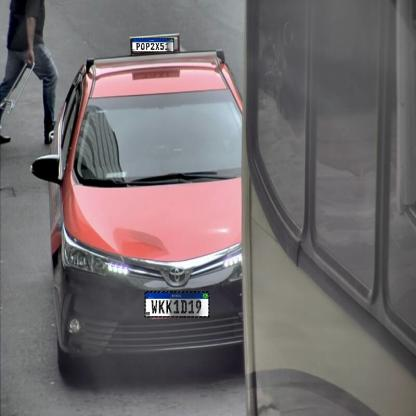PlacaM: (144, 291, 209, 318), (132, 38, 174, 52)
